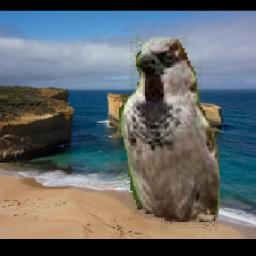Sparrow: (120, 32, 221, 237)
